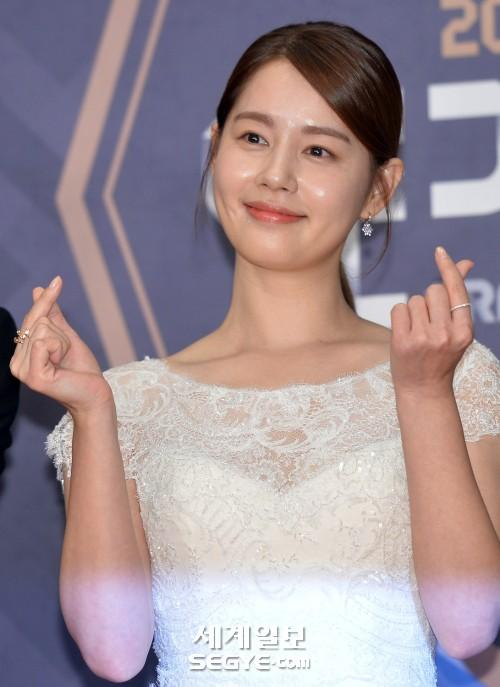heart gesture: (432, 243, 476, 286), (30, 272, 65, 316)
